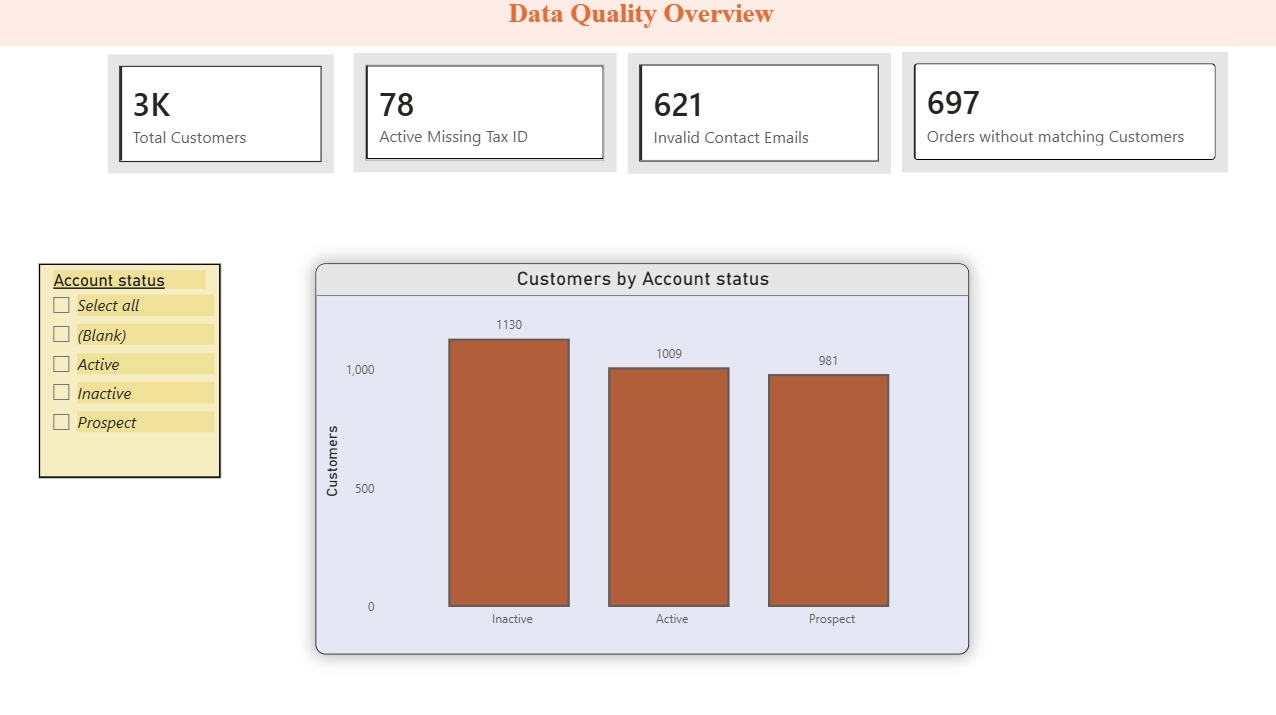

What the dashboard file says about the page in this screenshot:
{"tool":"powerbi","page":{"name":"Data quality overview","canvas":[1280,720],"ordinal":0},"visuals":[{"type":"cardVisual","fields":{"Data":["public customers.Total Customers"]},"box":[104.6,55.5,235,129.1],"z":0},{"type":"textbox","box":[0,0,1279.7,52.9],"z":1000},{"type":"cardVisual","fields":{"Data":["public customers.Active Missing Tax ID"]},"box":[348.7,54.2,272.5,129.1],"z":2000},{"type":"cardVisual","fields":{"Data":["public contacts.Invalid Contact Emails"]},"box":[621.1,54.2,272.5,130.4],"z":3000},{"type":"cardVisual","fields":{"Data":["public orders.Orphan Orders"]},"box":[893.6,52.9,334.4,130.4],"z":4000},{"type":"clusteredColumnChart","title":"Customers by Account status","fields":{"Category":["public customers.account_status"],"Y":["CountNonNull(public customers.customer_id)"]},"box":[316.4,268.6,649.5,388.7],"z":5000},{"type":"slicer","fields":{"Values":["public customers.account_status"]},"box":[41.3,268.6,180.8,213.1],"z":6000}]}

Visuals, with their boxes in screenshot pixels (x1, y1, x2, y2), scaled from the page's 1280x720 canvas onto the 1276x715 screenshot:
cardVisual - public customers.Total Customers: (x1=104, y1=55, x2=339, y2=183)
textbox: (x1=0, y1=0, x2=1275, y2=53)
cardVisual - public customers.Active Missing Tax ID: (x1=348, y1=54, x2=619, y2=182)
cardVisual - public contacts.Invalid Contact Emails: (x1=619, y1=54, x2=891, y2=183)
cardVisual - public orders.Orphan Orders: (x1=891, y1=53, x2=1224, y2=182)
"Customers by Account status" clusteredColumnChart: (x1=315, y1=267, x2=963, y2=653)
slicer - public customers.account_status: (x1=41, y1=267, x2=221, y2=478)
